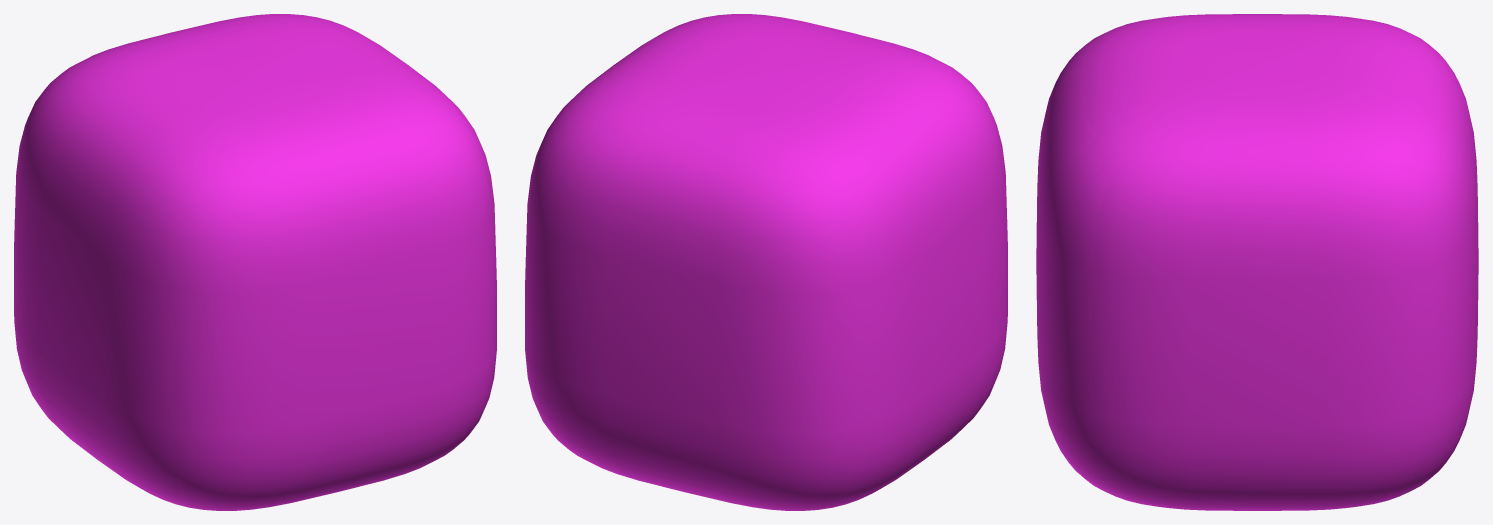
Rendered from slime_pink.glb.
The picture shows the model from 3 angles, left to right: view 1: azimuth 30°, elevation 25°; view 2: azimuth 150°, elevation 25°; view 3: azimuth 270°, elevation 25°; orthographic projection. The views are drawn at different scales.
Parts seen in each view (by area): view 1: PlainCube_Pink; view 2: PlainCube_Pink; view 3: PlainCube_Pink.
Boxes of the visible parts, left/top/right/bottom form: PlainCube_Pink: left=14, top=14, right=496, bottom=510; PlainCube_Pink: left=525, top=14, right=1007, bottom=510; PlainCube_Pink: left=1036, top=14, right=1478, bottom=510.
Bounding box in the file's own units: 0.92 × 0.8968 × 0.92.
